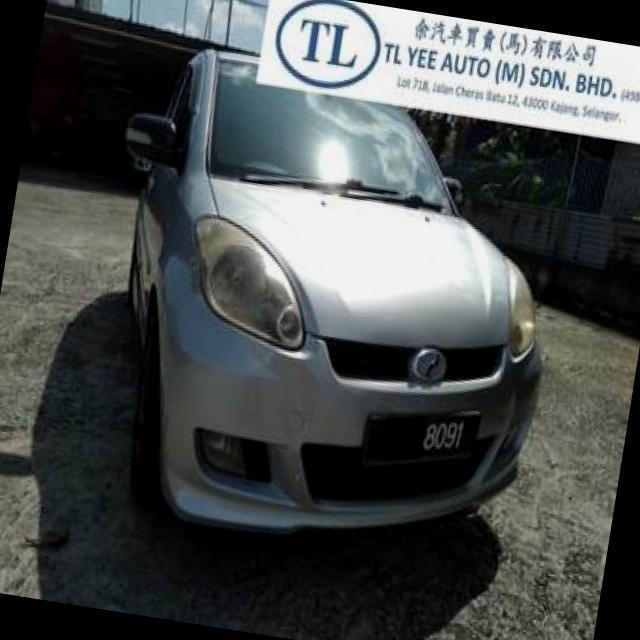PeroduaMyvi: (65, 32, 588, 577)
